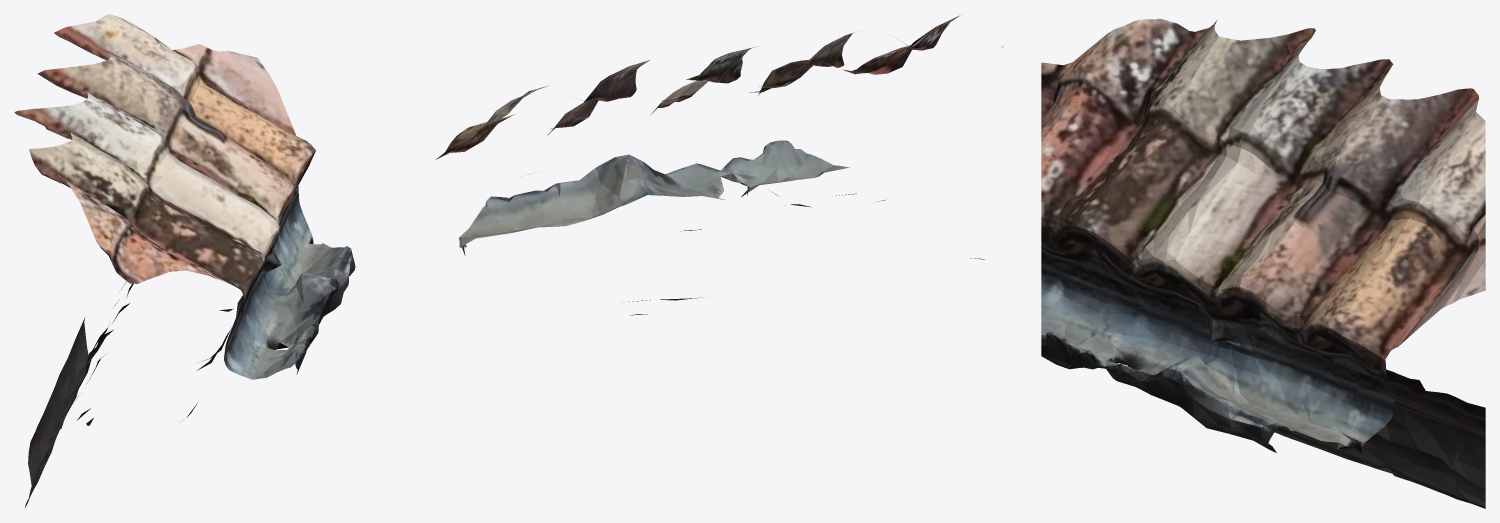
3 views of the same model, side by side, from view 1: azimuth 30°, elevation 25°; view 2: azimuth 150°, elevation 25°; view 3: azimuth 270°, elevation 25° (orthographic). The views are drawn at different scales.
Bounding box in the file's own units: 0.8374 × 0.8374 × 0.8373.
5 materials, 5 textured.
